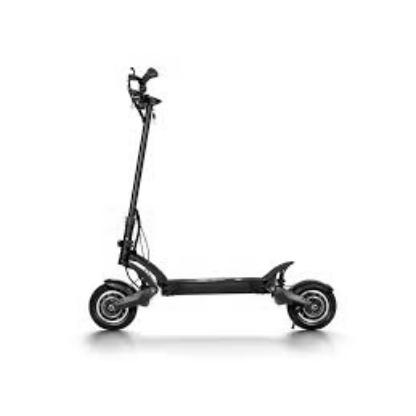bike: (88, 76, 337, 334)
